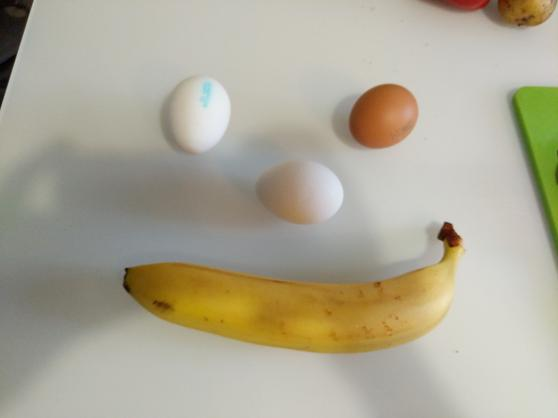banana: (122, 224, 464, 355)
egg: (255, 159, 344, 224), (169, 74, 231, 154), (350, 83, 418, 149)
